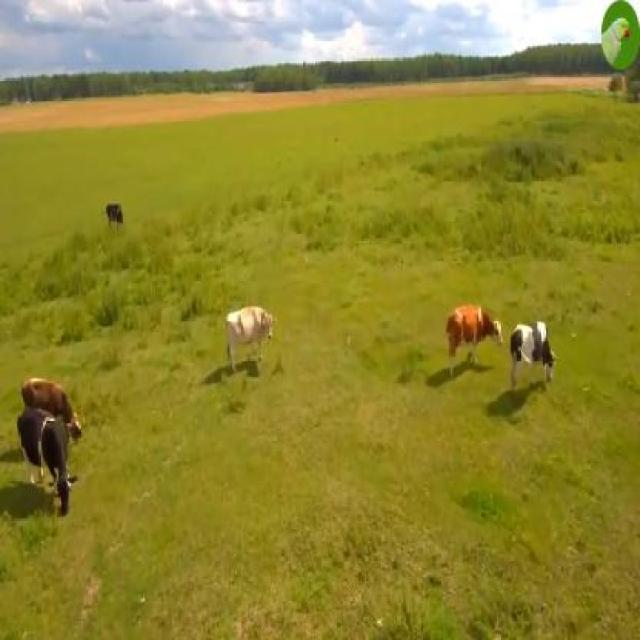Cow: (18, 404, 72, 516), (446, 301, 503, 377), (224, 306, 276, 371)
